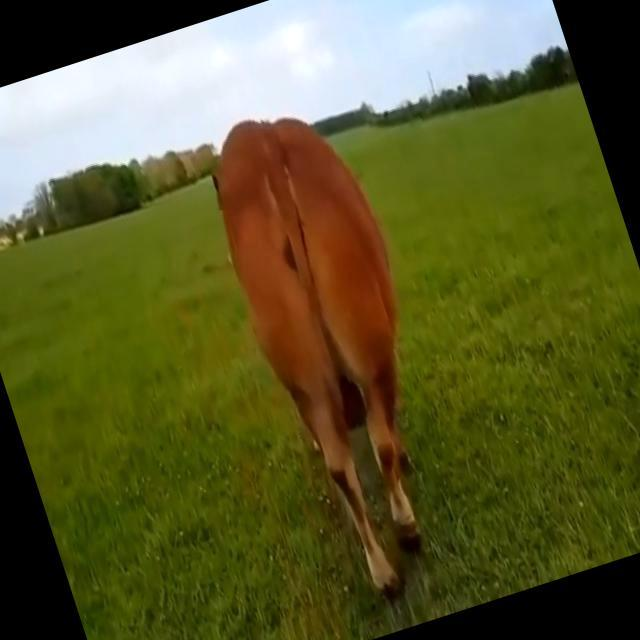COW: (213, 118, 417, 592)
